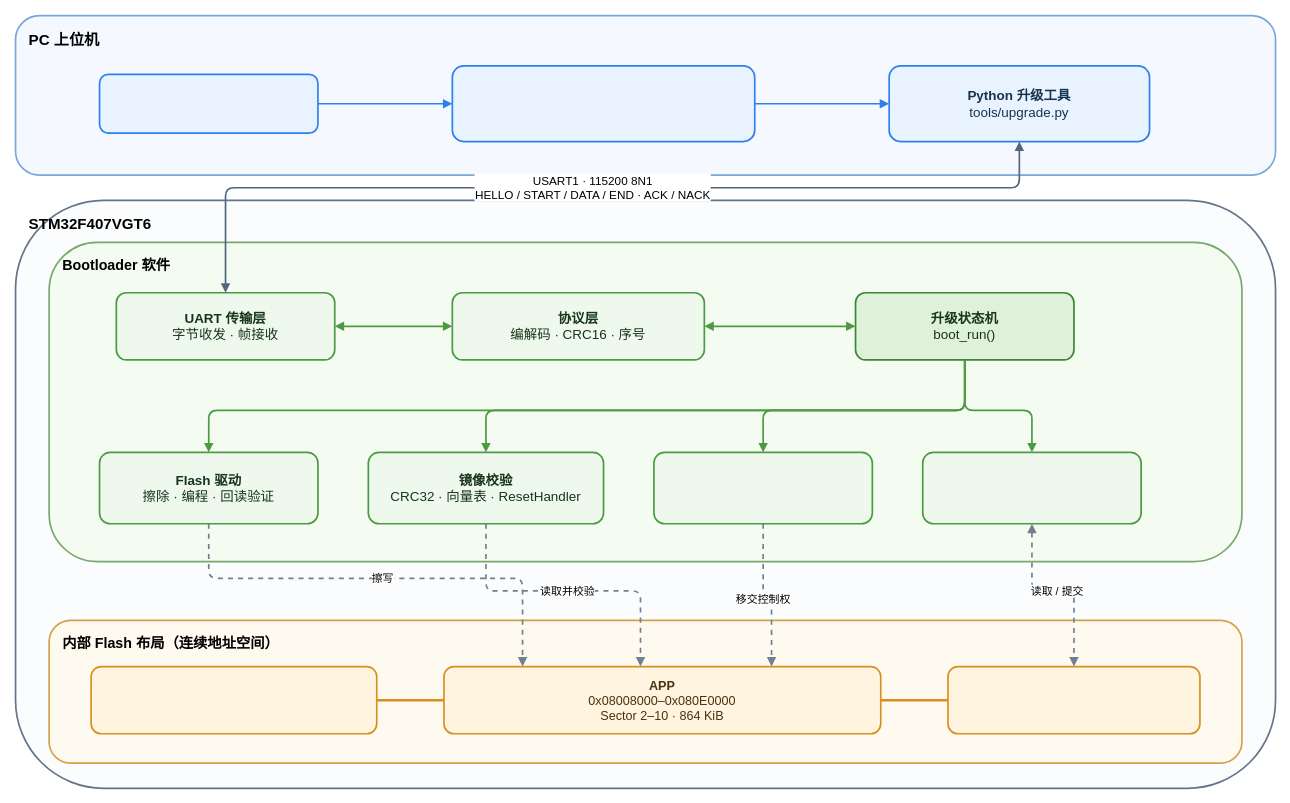
This 1290x803 diagram has some shape labels left out. Each missing label, with the centre of its shape:
"APP 原始 BIN" goes at (x=208, y=103).
"APP 跳转 VTOR · MSP · ResetHandler" goes at (x=763, y=487).
"Bootloader 0x08000000–0x08008000 Sector 0–1 · 32 KiB" goes at (x=233, y=699).
"Metadata 0x080E0000–0x08100000 Sector 11 · 128 KiB" goes at (x=1073, y=699).
"元数据管理 编码 · 校验 · 提交标志" goes at (x=1031, y=487).
"镜像预检 大小 · MSP · ResetHandler · CRC32" goes at (x=603, y=103).
